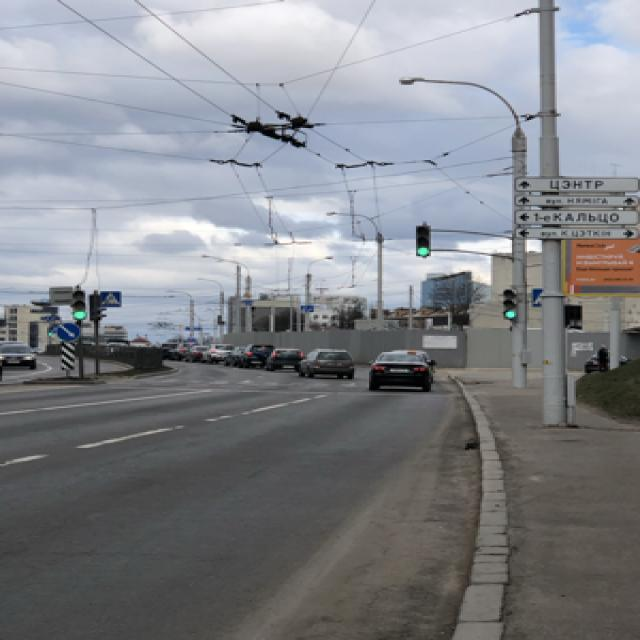crosswalk: (527, 286, 540, 306)
trafficlight: (409, 222, 428, 256), (499, 285, 516, 317), (66, 288, 83, 318), (88, 291, 102, 320)
